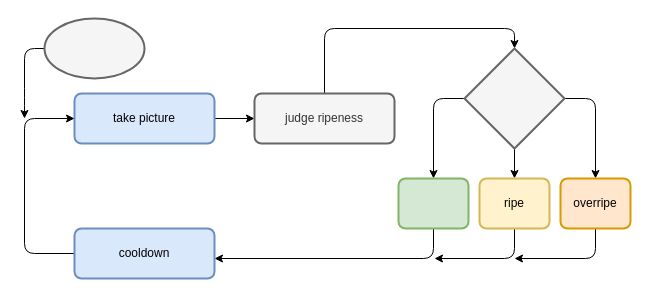
Some shapes in this 649 by 296 pixel diagram are drawn without their labels. Each missing label, with the centre of its shape:
"ripeness?" goes at pixel 514 98.
"start" goes at pixel 94 48.
"unripe" goes at pixel 433 203.
